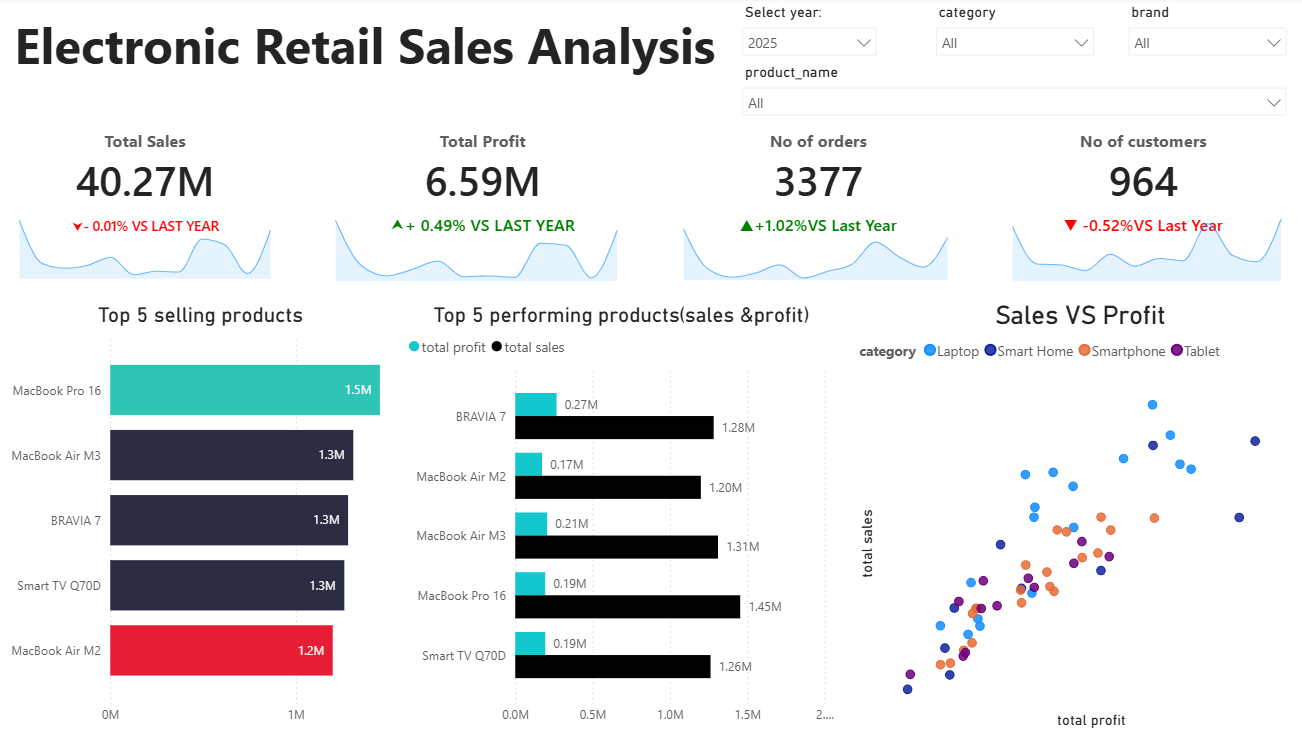

The dashboard page shown, as its layout file describes it:
{"tool":"powerbi","page":{"name":"products","canvas":[1280,720],"ordinal":2},"visuals":[{"type":"slicer","fields":{"Values":["date.year"]},"box":[717.8,1,151.6,61.1],"z":0},{"type":"cardVisual","fields":{"Data":["all_measures.total sales"]},"box":[7.4,117.4,273.1,163.1],"z":0,"group":"g1"},{"type":"cardVisual","fields":{"Data":["all_measures.total profit"]},"box":[338.8,117.4,271.1,164.4],"z":0,"group":"g2"},{"type":"cardVisual","fields":{"Data":["all_measures.No of orders"]},"box":[666.4,117.4,272.7,163.9],"z":0,"group":"g3"},{"type":"cardVisual","fields":{"Data":["all_measures.No of customers"]},"box":[985.3,117.4,272.7,163.9],"z":0,"group":"g4"},{"type":"textbox","box":[0,8.6,717.8,89.3],"z":1000},{"type":"lineChart","fields":{"Category":["date.month name"],"Y":["all_measures.No of customers"]},"box":[978.7,199.1,291.6,84],"z":1000,"group":"g4"},{"type":"lineChart","fields":{"Y":["all_measures.total sales"],"Category":["date.month name"]},"box":[7.4,202.6,273.1,77.9],"z":1000,"group":"g1"},{"type":"lineChart","fields":{"Category":["date.month name"],"Y":["all_measures.total profit"]},"box":[315.9,203.1,305.2,80.3],"z":1000,"group":"g2"},{"type":"lineChart","fields":{"Category":["date.month name"],"Y":["all_measures.No of orders"]},"box":[656.6,212.4,286.7,69.2],"z":1000,"group":"g3"},{"type":"slicer","fields":{"Values":["products.product_name"]},"box":[717.8,59.9,552.7,61.1],"z":2000},{"type":"slicer","fields":{"Values":["products.category"]},"box":[907.3,1,174.9,61.1],"z":3000},{"type":"slicer","fields":{"Values":["products.brand"]},"box":[1095.7,1,174.9,61.1],"z":4000},{"type":"barChart","title":"Top 5 selling products","fields":{"Category":["products.product_name"],"Y":["all_measures.total sales"]},"box":[0,298.4,396.2,421.9],"z":5000},{"type":"scatterChart","title":"Sales VS Profit ","fields":{"X":["all_measures.total profit"],"Y":["all_measures.total sales"],"Category":["products.product_name"],"Series":["products.category"]},"box":[837.6,297.1,442.7,423.1],"z":6000},{"type":"clusteredBarChart","title":"Top 5 performing products(sales &profit)","fields":{"Category":["products.product_name"],"Y":["all_measures.total profit","all_measures.total sales"]},"box":[396.2,298.4,426.8,421.9],"z":7000},{"type":"group","id":"g1","title":"Group 1","box":[7.4,117.4,273.1,163.1],"z":8000},{"type":"group","id":"g2","title":"Group 2","box":[315.9,117.4,305.2,165.6],"z":9000},{"type":"group","id":"g3","title":"Group 3","box":[656.6,117.4,286.7,164.2],"z":10000},{"type":"group","id":"g4","title":"Group 4","box":[978.7,117.4,291.6,165.6],"z":11000}]}

Visuals, with their boxes in screenshot pixels (x1, y1, x2, y2), scaled from the page's 1280x720 canvas onto the 1302x731 screenshot:
slicer - date.year: [730, 1, 884, 63]
cardVisual - all_measures.total sales: [8, 119, 285, 285]
cardVisual - all_measures.total profit: [345, 119, 620, 286]
cardVisual - all_measures.No of orders: [678, 119, 955, 286]
cardVisual - all_measures.No of customers: [1002, 119, 1280, 286]
textbox: [0, 9, 730, 99]
lineChart - date.month name x all_measures.No of customers: [996, 202, 1292, 287]
lineChart - all_measures.total sales x date.month name: [8, 206, 285, 285]
lineChart - date.month name x all_measures.total profit: [321, 206, 632, 288]
lineChart - date.month name x all_measures.No of orders: [668, 216, 960, 286]
slicer - products.product_name: [730, 61, 1292, 123]
slicer - products.category: [923, 1, 1101, 63]
slicer - products.brand: [1115, 1, 1292, 63]
"Top 5 selling products" barChart: [0, 303, 403, 730]
"Sales VS Profit " scatterChart: [852, 302, 1301, 730]
"Top 5 performing products(sales &profit)" clusteredBarChart: [403, 303, 837, 730]
"Group 1" group: [8, 119, 285, 285]
"Group 2" group: [321, 119, 632, 287]
"Group 3" group: [668, 119, 960, 286]
"Group 4" group: [996, 119, 1292, 287]
